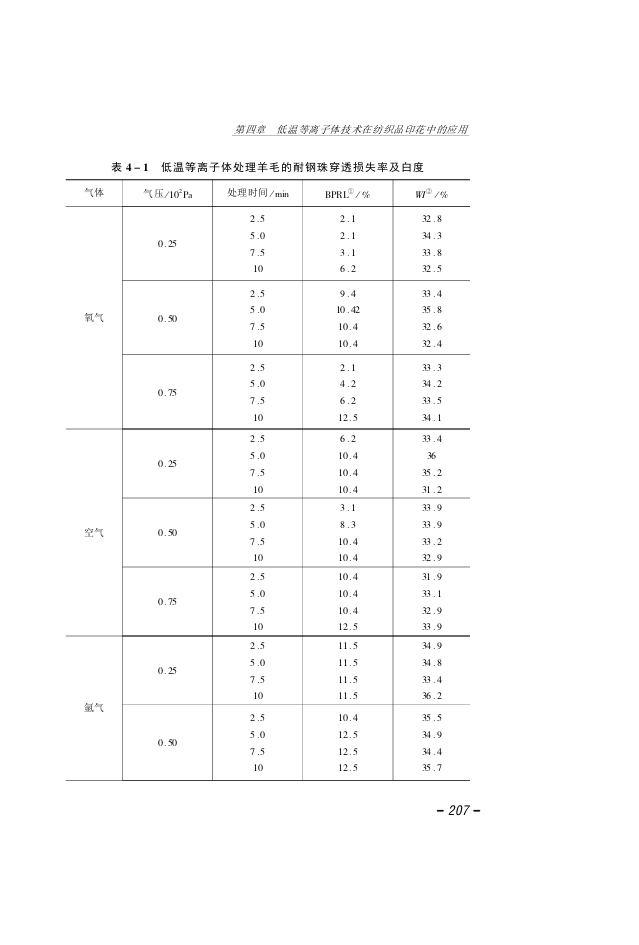table: (65, 179, 469, 781)
